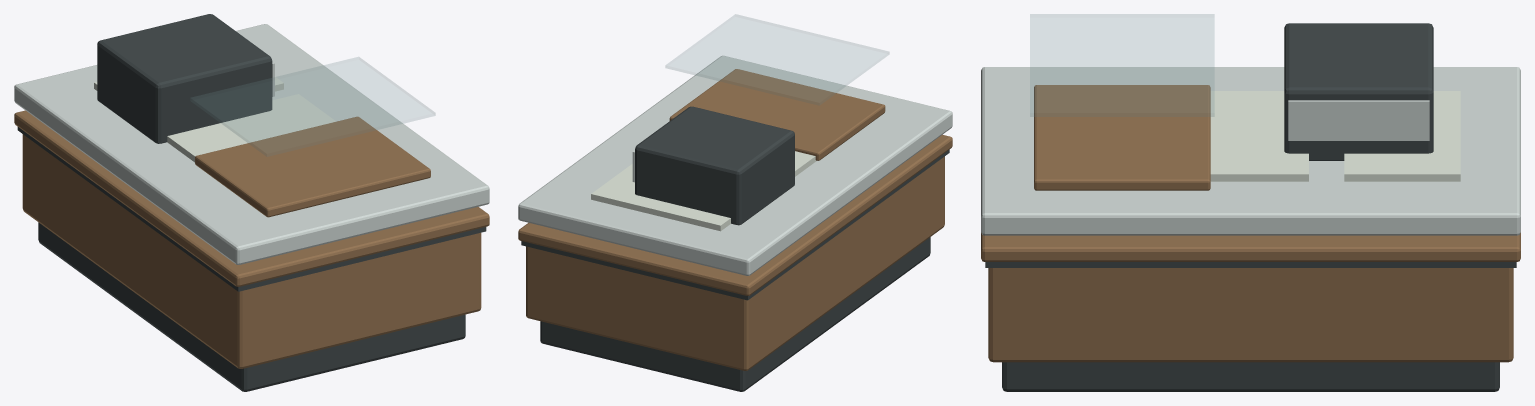
The model's file is bar-l0.glb.
3 views of the same model, side by side, from view 1: azimuth 30°, elevation 25°; view 2: azimuth 150°, elevation 25°; view 3: azimuth 270°, elevation 25° (orthographic). The views are drawn at different scales.
Parts seen in each view (by area): view 1: bar-l0_fixture_Oiled warm oak, bar-l0_fixture_Refrigerator enamel, bar-l0_fixture_Powder-coated graphite, bar-l0_fixture_Smoked glass approximation, bar-l0_fixture_Dairy cartons.001; view 2: bar-l0_fixture_Oiled warm oak, bar-l0_fixture_Refrigerator enamel, bar-l0_fixture_Powder-coated graphite, bar-l0_fixture_Smoked glass approximation, bar-l0_fixture_Dairy cartons.001; view 3: bar-l0_fixture_Oiled warm oak, bar-l0_fixture_Refrigerator enamel, bar-l0_fixture_Powder-coated graphite, bar-l0_fixture_Smoked glass approximation, bar-l0_fixture_Dairy cartons.001.
Boxes of the visible parts, x1,y1,x2,y2 form: bar-l0_fixture_Oiled warm oak: [14, 110, 489, 368]; bar-l0_fixture_Refrigerator enamel: [14, 24, 489, 264]; bar-l0_fixture_Powder-coated graphite: [17, 14, 486, 391]; bar-l0_fixture_Smoked glass approximation: [190, 57, 435, 156]; bar-l0_fixture_Dairy cartons.001: [94, 77, 335, 162]; bar-l0_fixture_Oiled warm oak: [518, 69, 952, 370]; bar-l0_fixture_Refrigerator enamel: [518, 55, 952, 275]; bar-l0_fixture_Powder-coated graphite: [521, 106, 949, 391]; bar-l0_fixture_Smoked glass approximation: [665, 14, 889, 105]; bar-l0_fixture_Dairy cartons.001: [591, 151, 816, 231]; bar-l0_fixture_Oiled warm oak: [981, 85, 1520, 362]; bar-l0_fixture_Refrigerator enamel: [981, 67, 1520, 235]; bar-l0_fixture_Powder-coated graphite: [985, 23, 1516, 391]; bar-l0_fixture_Smoked glass approximation: [1030, 14, 1214, 116]; bar-l0_fixture_Dairy cartons.001: [1210, 91, 1460, 181].
Size of the model in its own units: 1.7 by 1.43 by 2.6.
